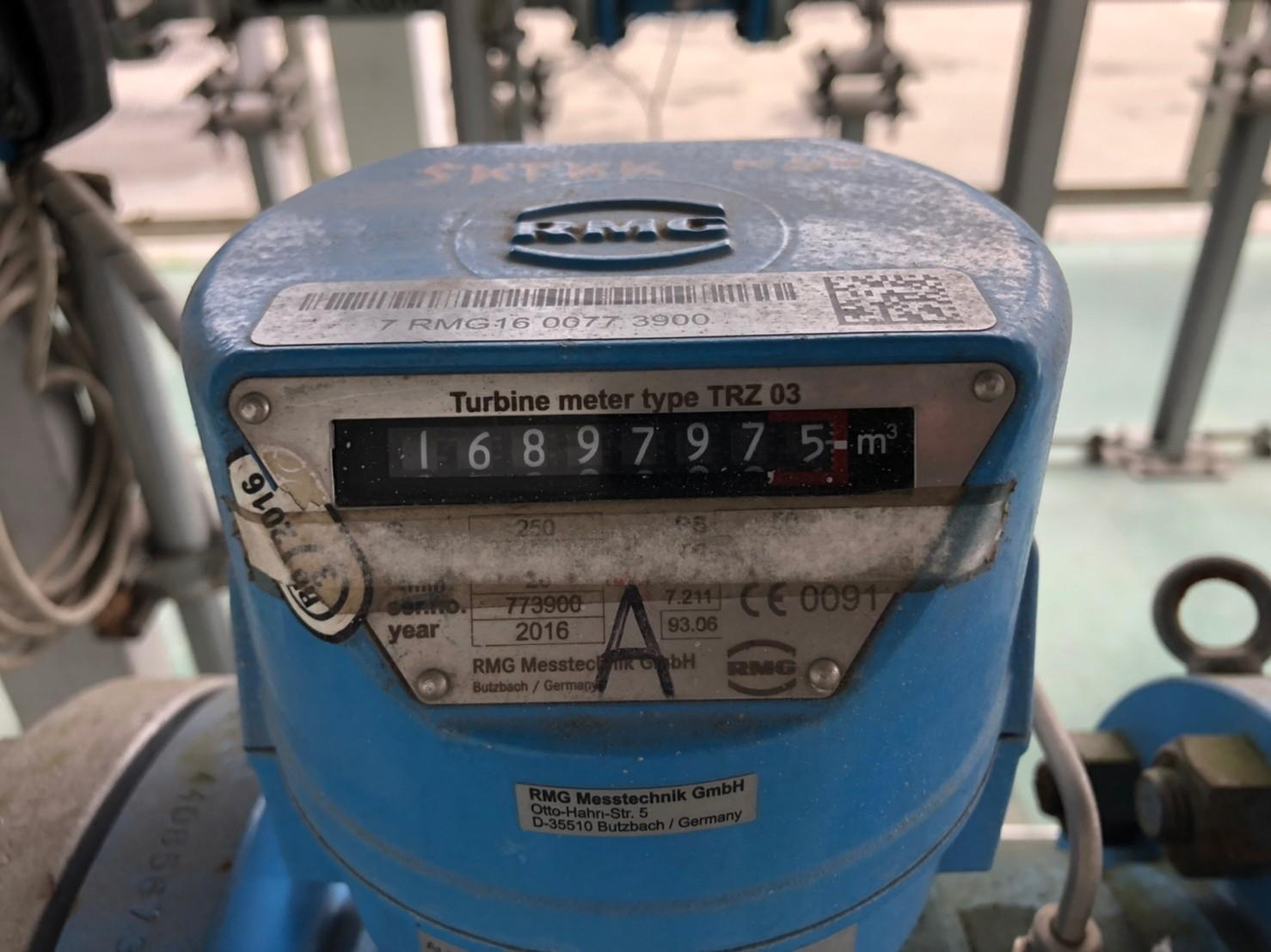analog_dial: (332, 408, 916, 508)
